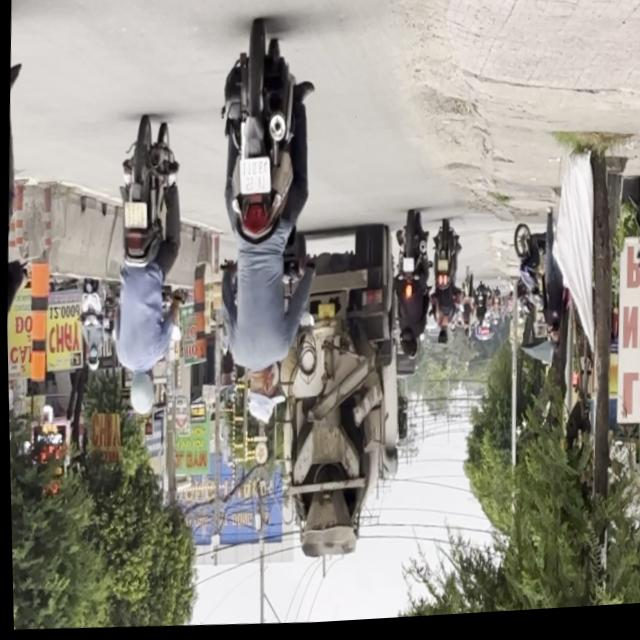helmet: (125, 371, 153, 420)
licenseplate: (202, 22, 325, 438), (102, 117, 187, 423), (0, 0, 34, 441)
motorcyclist: (241, 366, 282, 428)
nohelmet: (238, 160, 270, 198), (122, 201, 146, 232)
